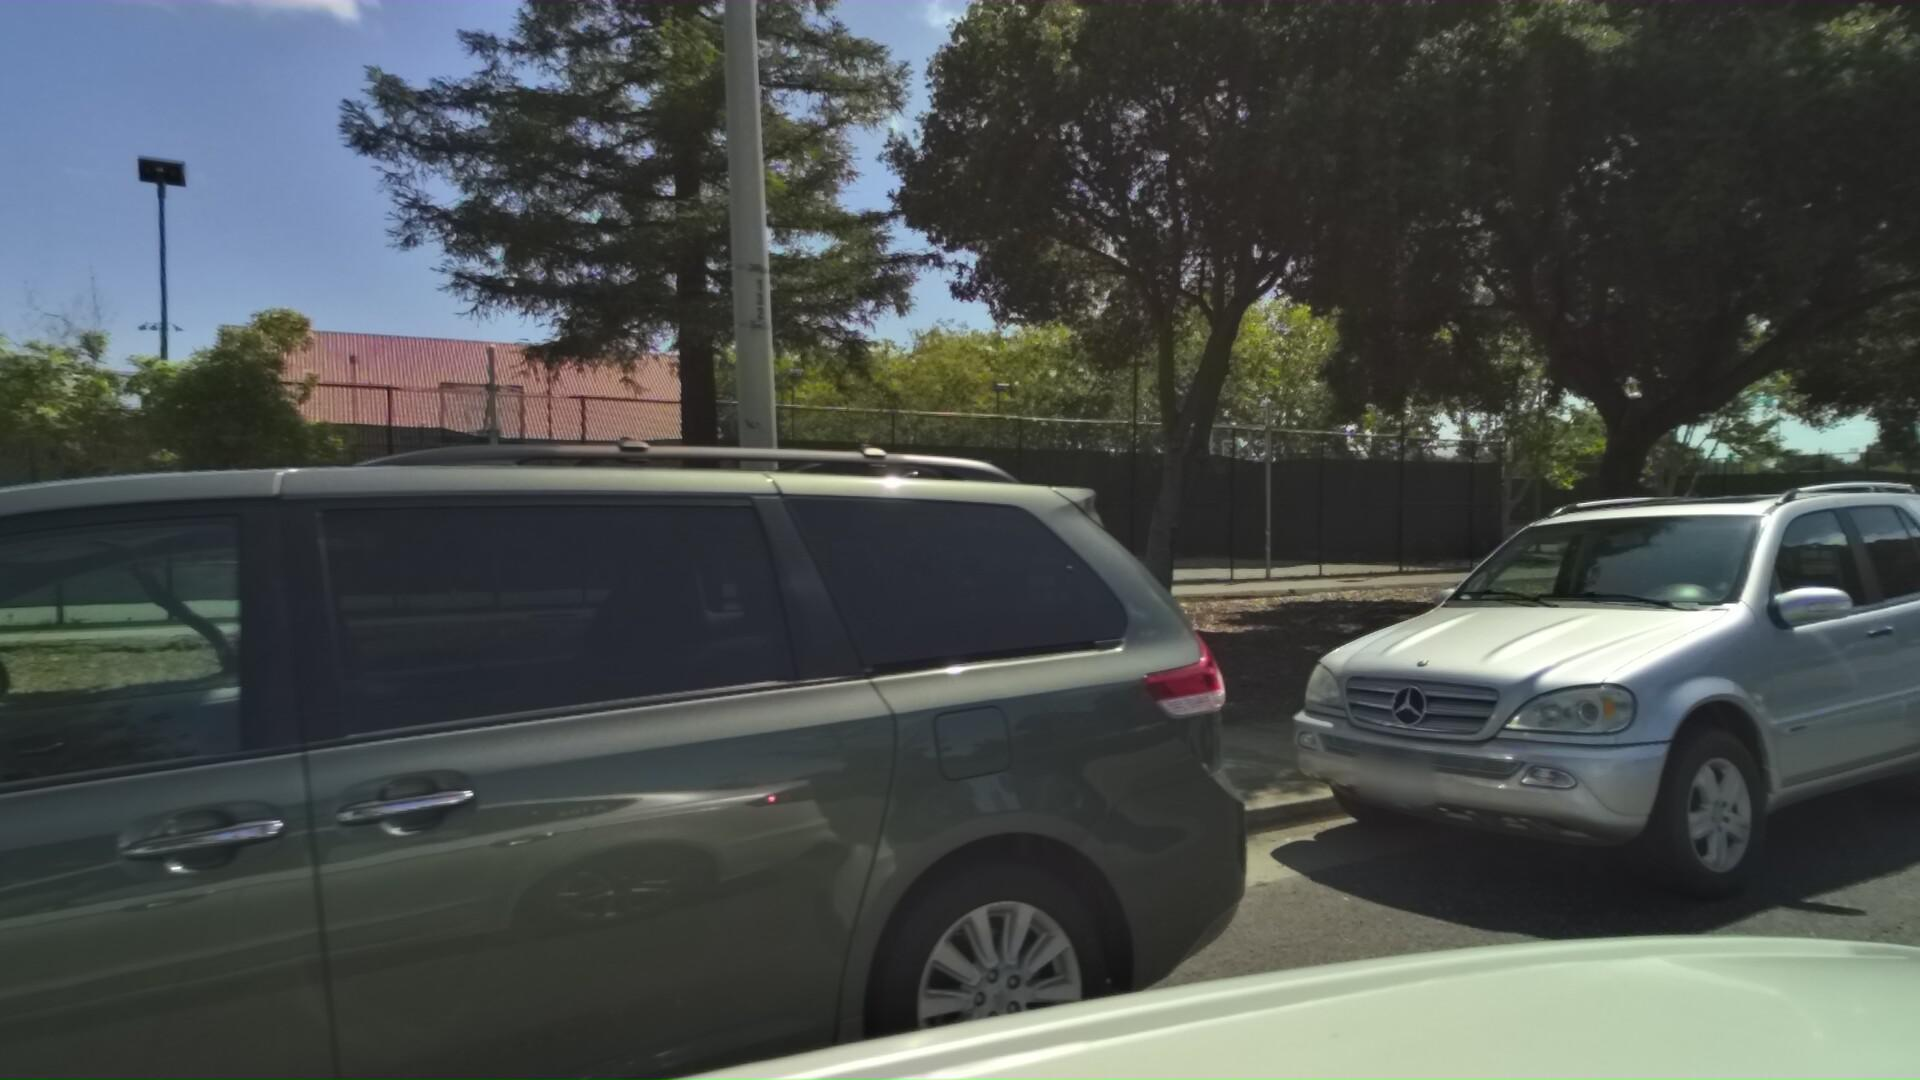car: (0, 181, 1474, 1080), (1288, 433, 1920, 934), (1774, 518, 1920, 785)
